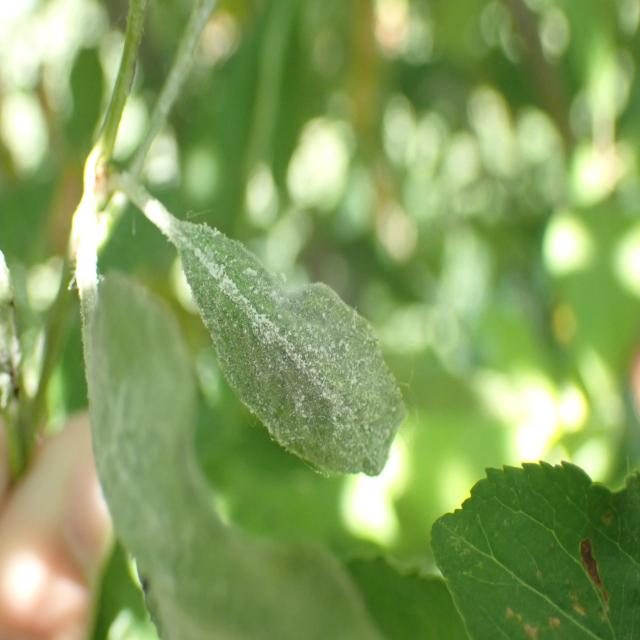Black Rot: (564, 517, 623, 640)
Powdery_mildew: (160, 203, 412, 491)
